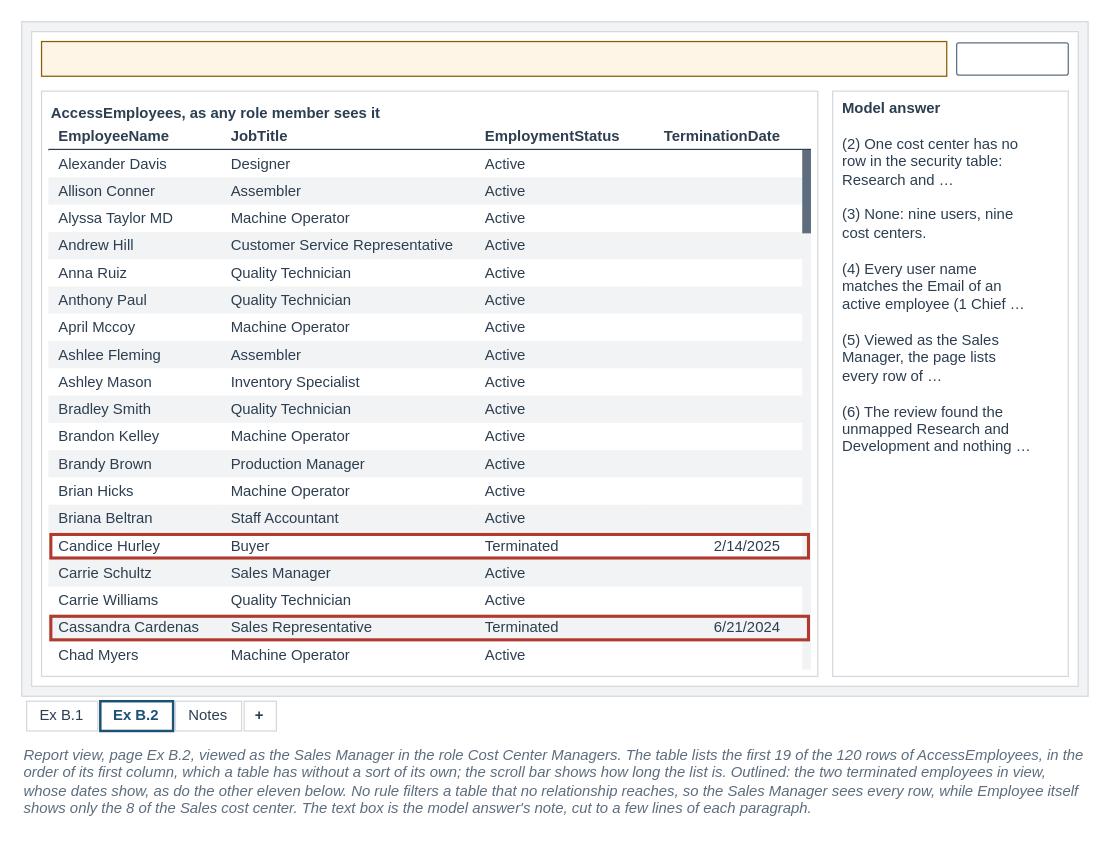
Image size: 1110x847. Some labels were removed from this diagram. Here are the shapes that lost their labels. From the top down, the centre of each, then its label:
At [493,58]: "Viewing as employee006@charlesriver.example in the role Cost Center Managers".
At [1011,58]: "Stop viewing".
